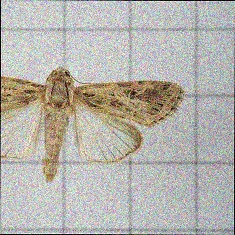Spodoptera litura: (0, 65, 186, 184)
